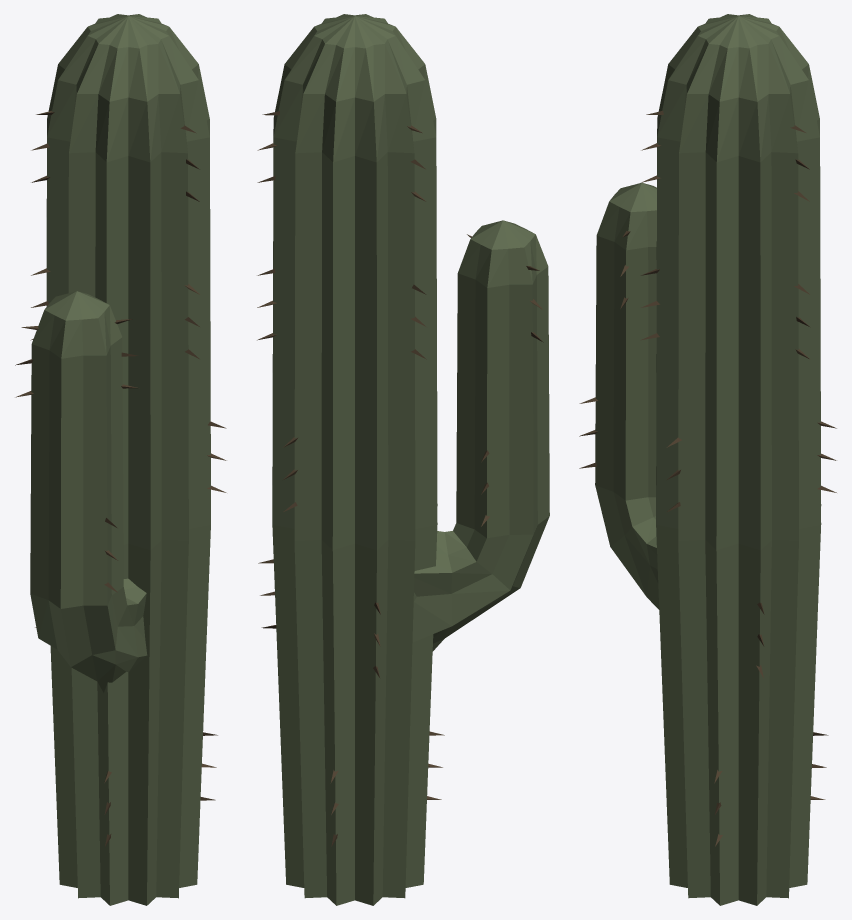
File: saguaro-cactus-6b27eb.glb
3 views of the same model, side by side, from view 1: azimuth 30°, elevation 25°; view 2: azimuth 150°, elevation 25°; view 3: azimuth 270°, elevation 25° (orthographic).
Parts seen in each view (by area): view 1: saguaro-body; view 2: saguaro-body; view 3: saguaro-body.
Part boxes in pixels (left/top/right/bottom): saguaro-body: left=15, top=14, right=226, bottom=905; saguaro-body: left=257, top=14, right=549, bottom=905; saguaro-body: left=579, top=14, right=836, bottom=905.
Size of the model in its own units: 1.15 by 4 by 1.09.
